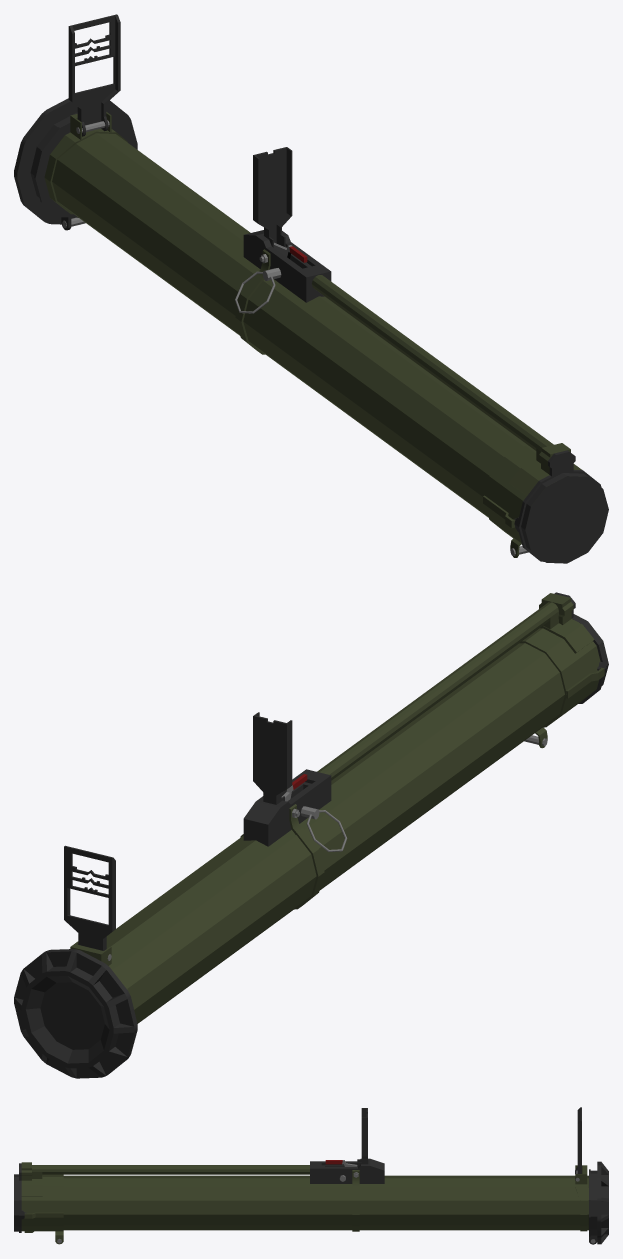
File: weapon_launcher.glb
3 views of the same model, one above another, from view 1: azimuth 30°, elevation 25°; view 2: azimuth 150°, elevation 25°; view 3: azimuth 270°, elevation 25° (orthographic). The views are drawn at different scales.
Parts seen in each view (by area): view 1: Tube, Rear_Cover, Rear_Upper_Tube, Front_Sight, Rear_Sight, Rear_Sight_Housing, Front_Sight_Mount, Rear_Sight_Mount; view 2: Tube, Rear_Upper_Tube, Rear_Sight_Housing, Rear_Sight, Front_Sight, Rear_Sight_Mount, Rear_Cover; view 3: Tube, Rear_Upper_Tube, Rear_Sight_Housing, Front_Sight_Mount, Rear_Cover, Rear_Sight_Mount, Rear_Sight, Front_Sight, Side_Grip_Right.
Part boxes in pixels (<box>): Tube: <box>14,98,581,544</box>; Rear_Cover: <box>514,450,608,563</box>; Rear_Upper_Tube: <box>312,275,553,462</box>; Front_Sight: <box>68,14,120,136</box>; Rear_Sight: <box>253,147,292,247</box>; Rear_Sight_Housing: <box>243,230,331,302</box>; Front_Sight_Mount: <box>44,112,127,214</box>; Rear_Sight_Mount: <box>235,249,270,354</box>; Tube: <box>14,593,600,1078</box>; Rear_Upper_Tube: <box>317,602,558,780</box>; Rear_Sight_Housing: <box>243,769,331,846</box>; Rear_Sight: <box>253,712,292,804</box>; Front_Sight: <box>64,845,115,950</box>; Rear_Sight_Mount: <box>240,804,324,909</box>; Rear_Cover: <box>554,592,608,703</box>; Tube: <box>21,1161,608,1244</box>; Rear_Upper_Tube: <box>32,1165,309,1178</box>; Rear_Sight_Housing: <box>310,1158,384,1183</box>; Front_Sight_Mount: <box>575,1165,587,1231</box>; Rear_Cover: <box>14,1163,26,1232</box>; Rear_Sight_Mount: <box>352,1170,359,1231</box>; Rear_Sight: <box>357,1108,367,1166</box>; Front_Sight: <box>575,1107,581,1180</box>; Side_Grip_Right: <box>24,1212,63,1218</box>.
Size of the model in its own units: 0.0307 by 0.0523 by 0.221.
Materials: 2 (2 with a texture image).
